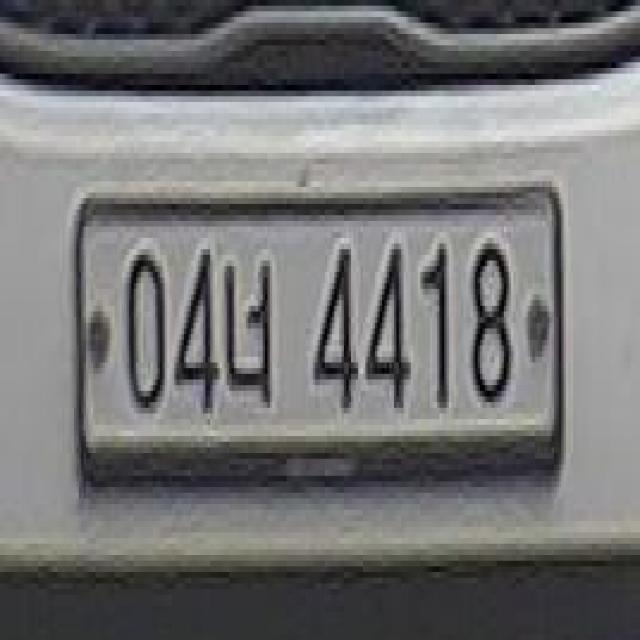illegal_plate: (72, 175, 564, 505)
